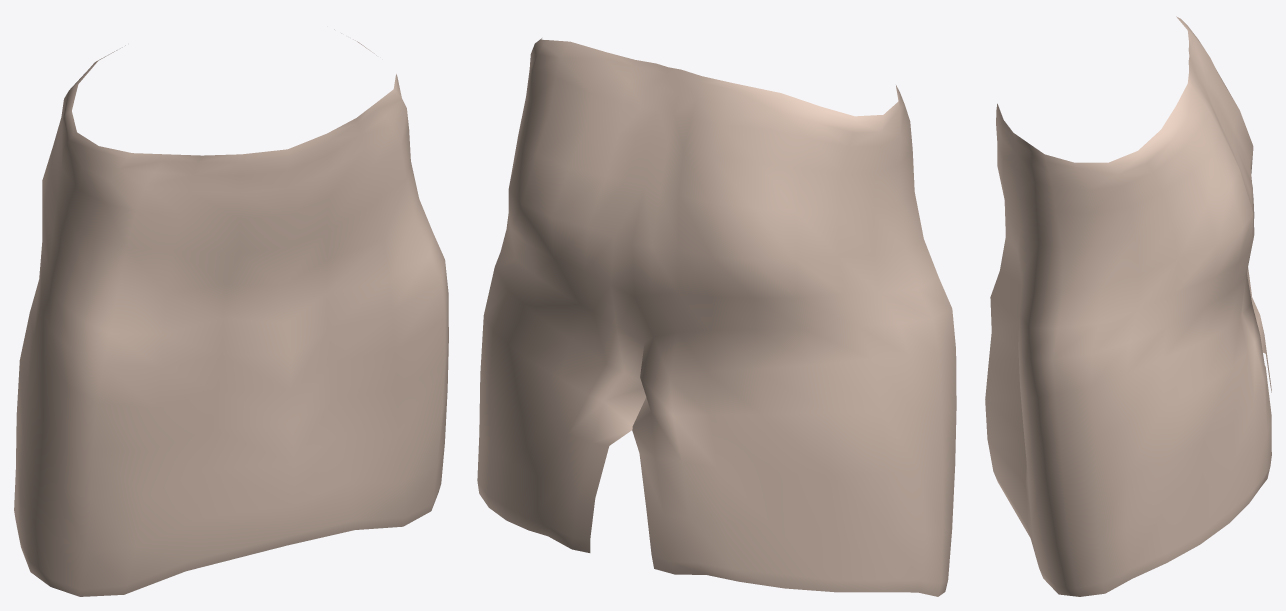
The model's file is skirt.glb.
3 views of the same model, side by side, from view 1: azimuth 30°, elevation 25°; view 2: azimuth 150°, elevation 25°; view 3: azimuth 270°, elevation 25° (orthographic). The views are drawn at different scales.
Visible parts, largest first — view 1: Garment; view 2: Garment; view 3: Garment.
Boxes of the visible parts, x1,y1,x2,y2 form: Garment: [14, 29, 448, 596]; Garment: [477, 38, 956, 596]; Garment: [985, 16, 1271, 596].
Size of the model in its own units: 0.4382 by 0.4943 by 0.2807.
